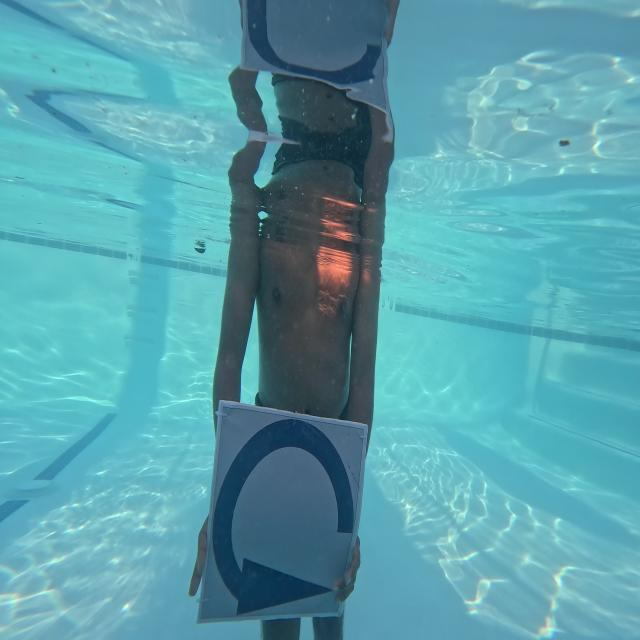blue_side: (192, 380, 369, 640)
